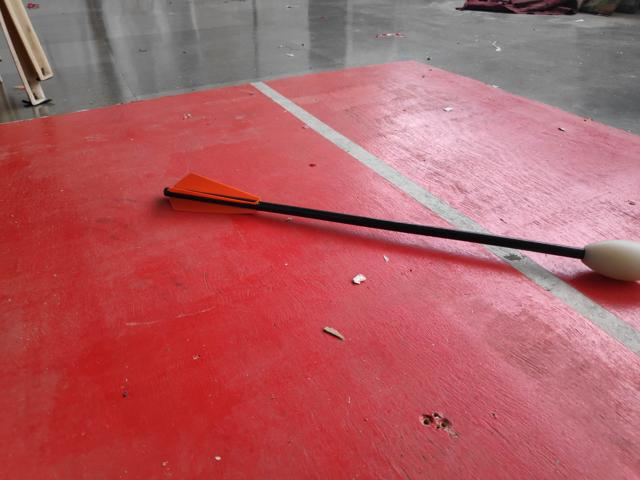Head: (583, 232, 640, 266)
